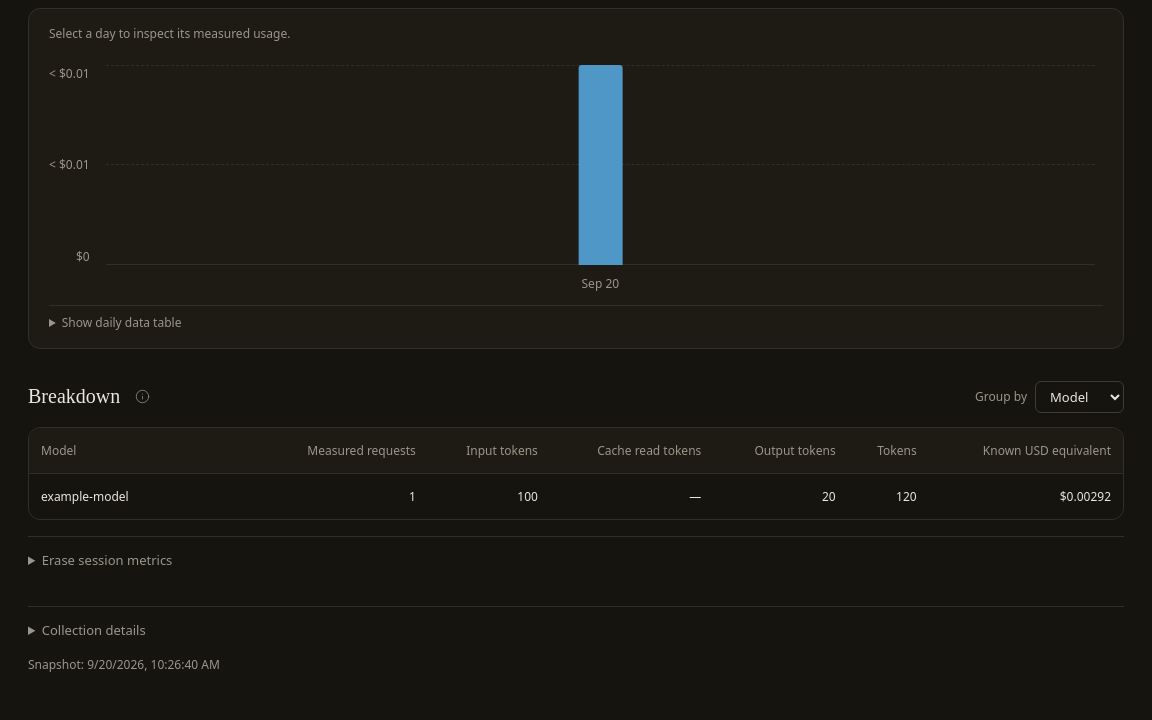
keeps metric erasure separate and requires explicit confirmation
This screenshot has width=1152, height=720.
(page scrolled)
Expected: the text "Snapshot: 9/20/2026, 10:26:40 AM" is shown, 28,656 -> 220,673
Click the heading "Erase session metrics" at (107, 560), box 42,551 -> 172,569
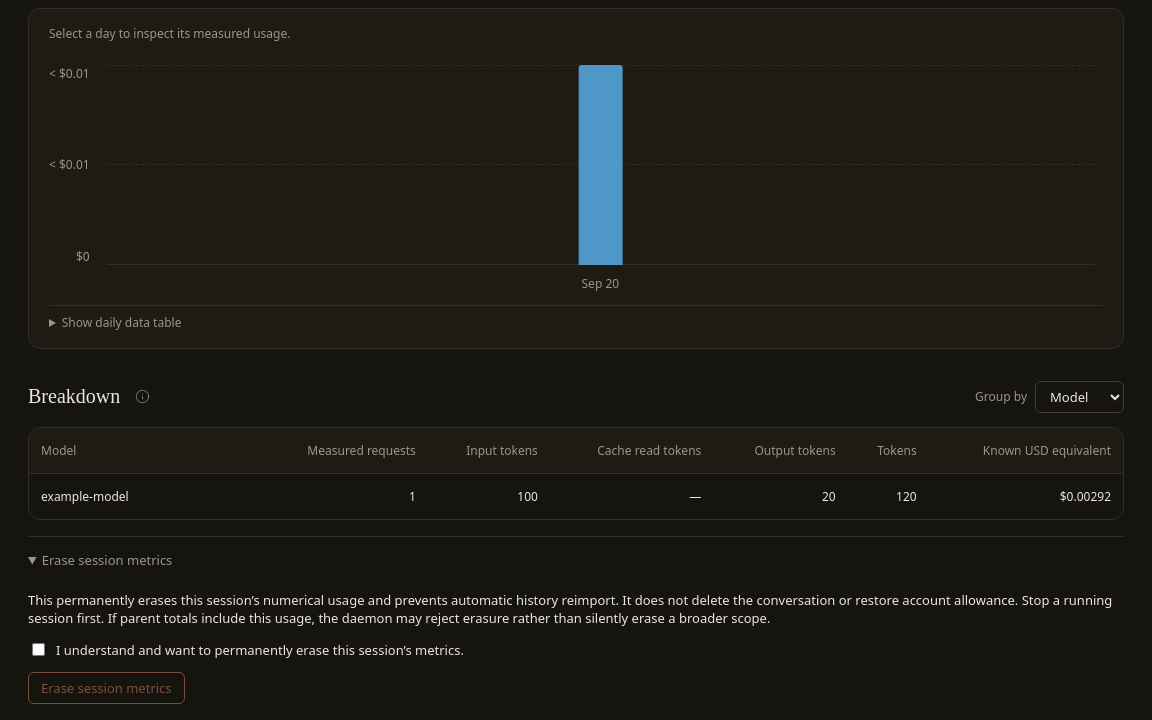
Expected: the button "Erase session metrics" is disabled, 28,672 -> 185,704
Click the checkbox labelled "I understand and want" at (38, 650), box 32,643 -> 45,656
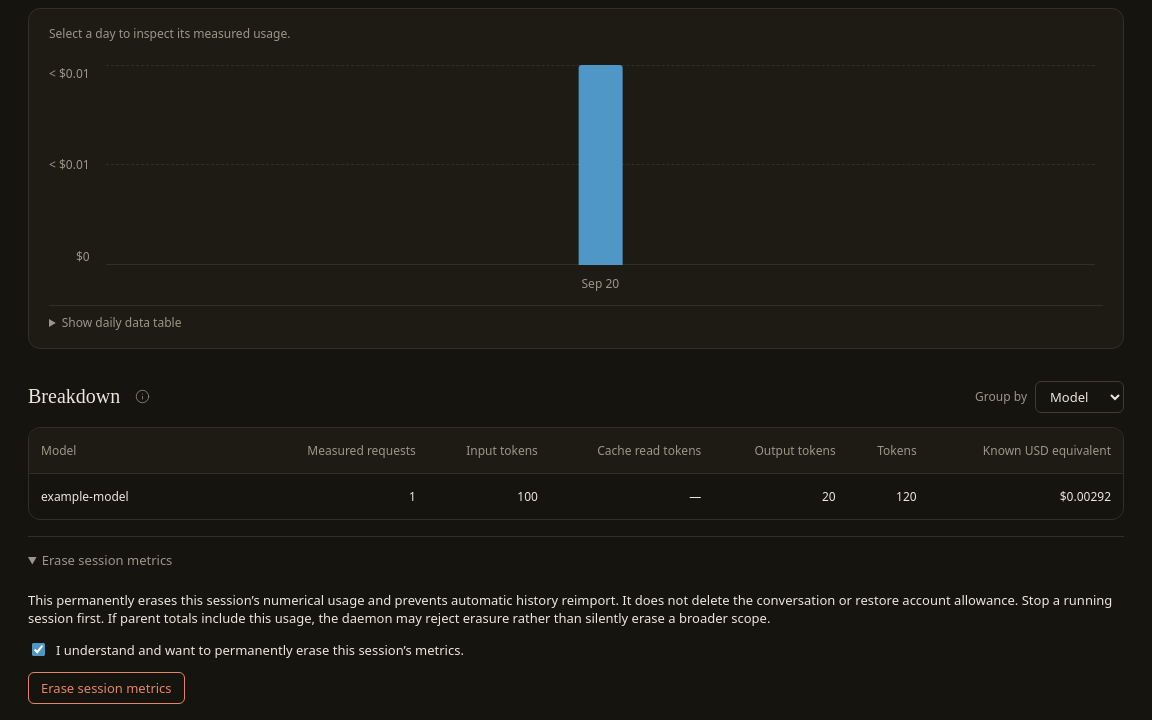
Expected: the text "Stop a running session first" is shown, 28,591 -> 1112,627
Expected: the button "Erase session metrics" is enabled, 28,672 -> 185,704
